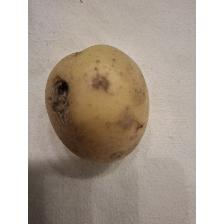Kartoffel: (43, 40, 153, 166)
